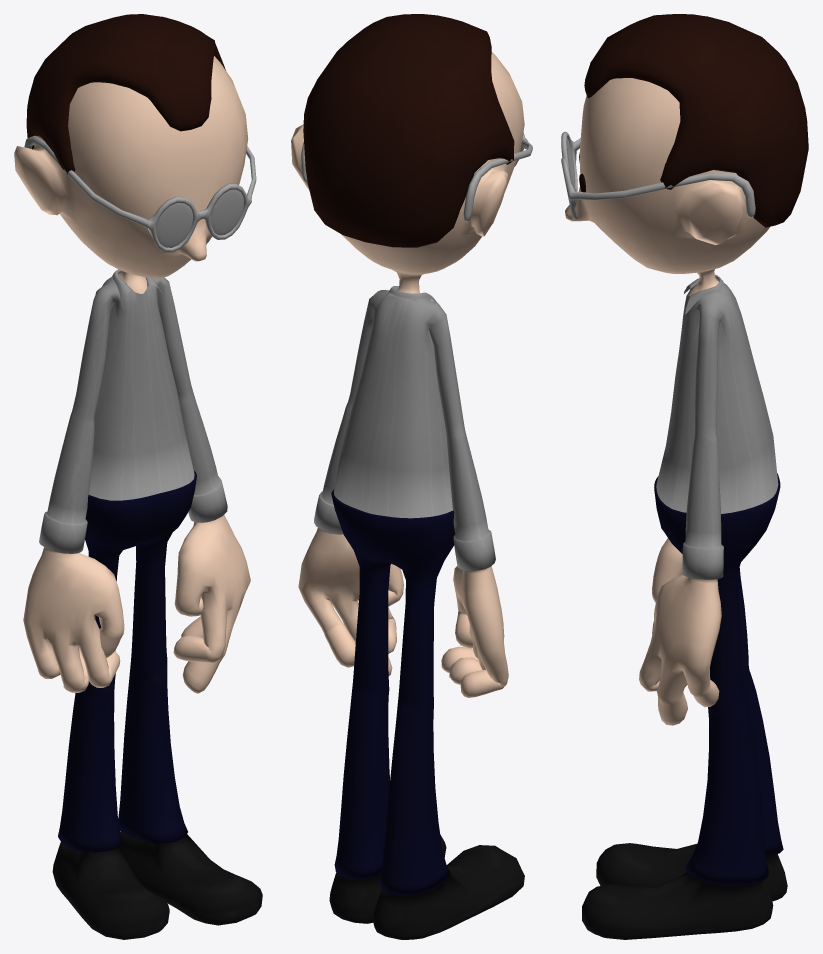
File: Animation_Cartoon_Starter_000015.obj
3 views of the same model, side by side, from view 1: azimuth 30°, elevation 25°; view 2: azimuth 150°, elevation 25°; view 3: azimuth 270°, elevation 25° (orthographic).
Visible parts, largest first — view 1: bm_09; view 2: bm_09; view 3: bm_09.
Part boxes in pixels (x1=…): bm_09: x1=14, y1=14, x2=262, y2=939; bm_09: x1=291, y1=14, x2=532, y2=939; bm_09: x1=561, y1=14, x2=808, y2=939.
Bounding box in the file's own units: 0.3944 × 1.51 × 0.386.
Materials: 3 (1 with a texture image).
